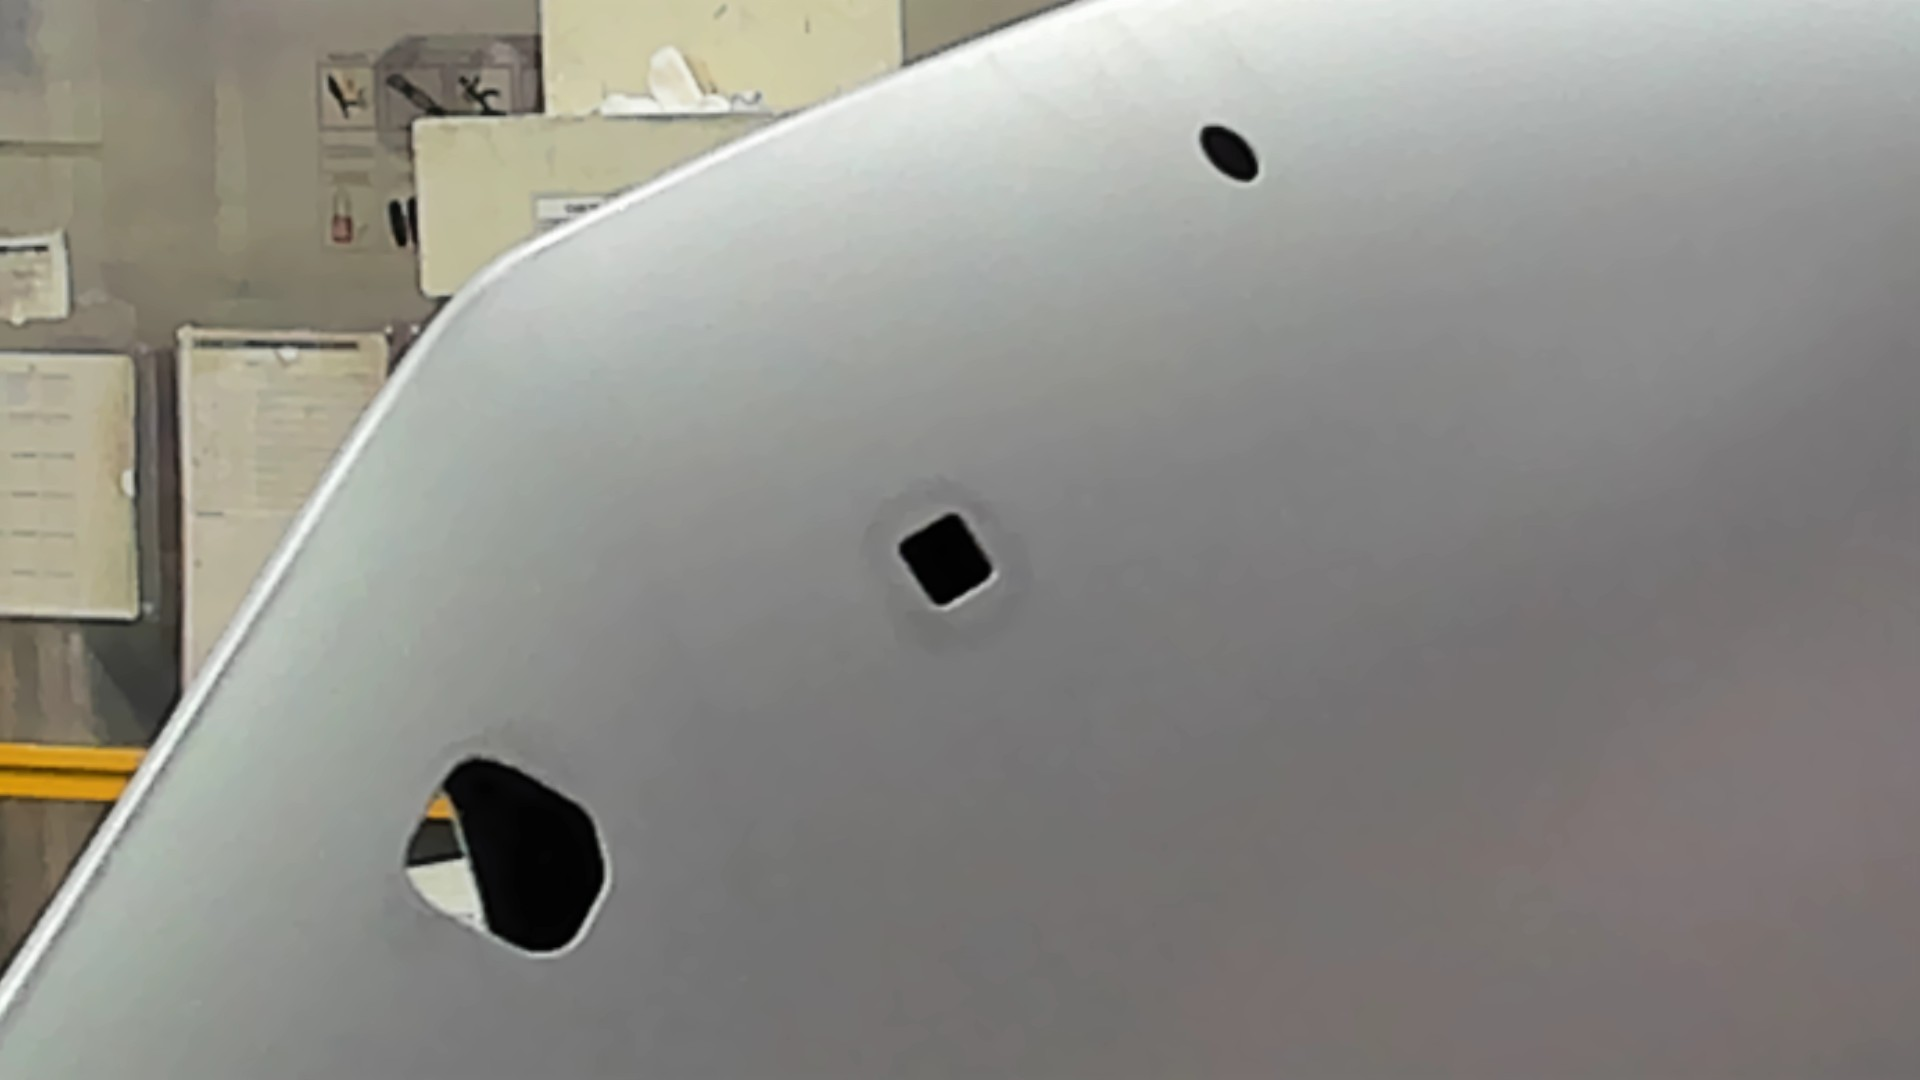chico: (1195, 117, 1263, 187)
grande: (393, 750, 618, 967)
mediano: (889, 508, 1000, 617)
